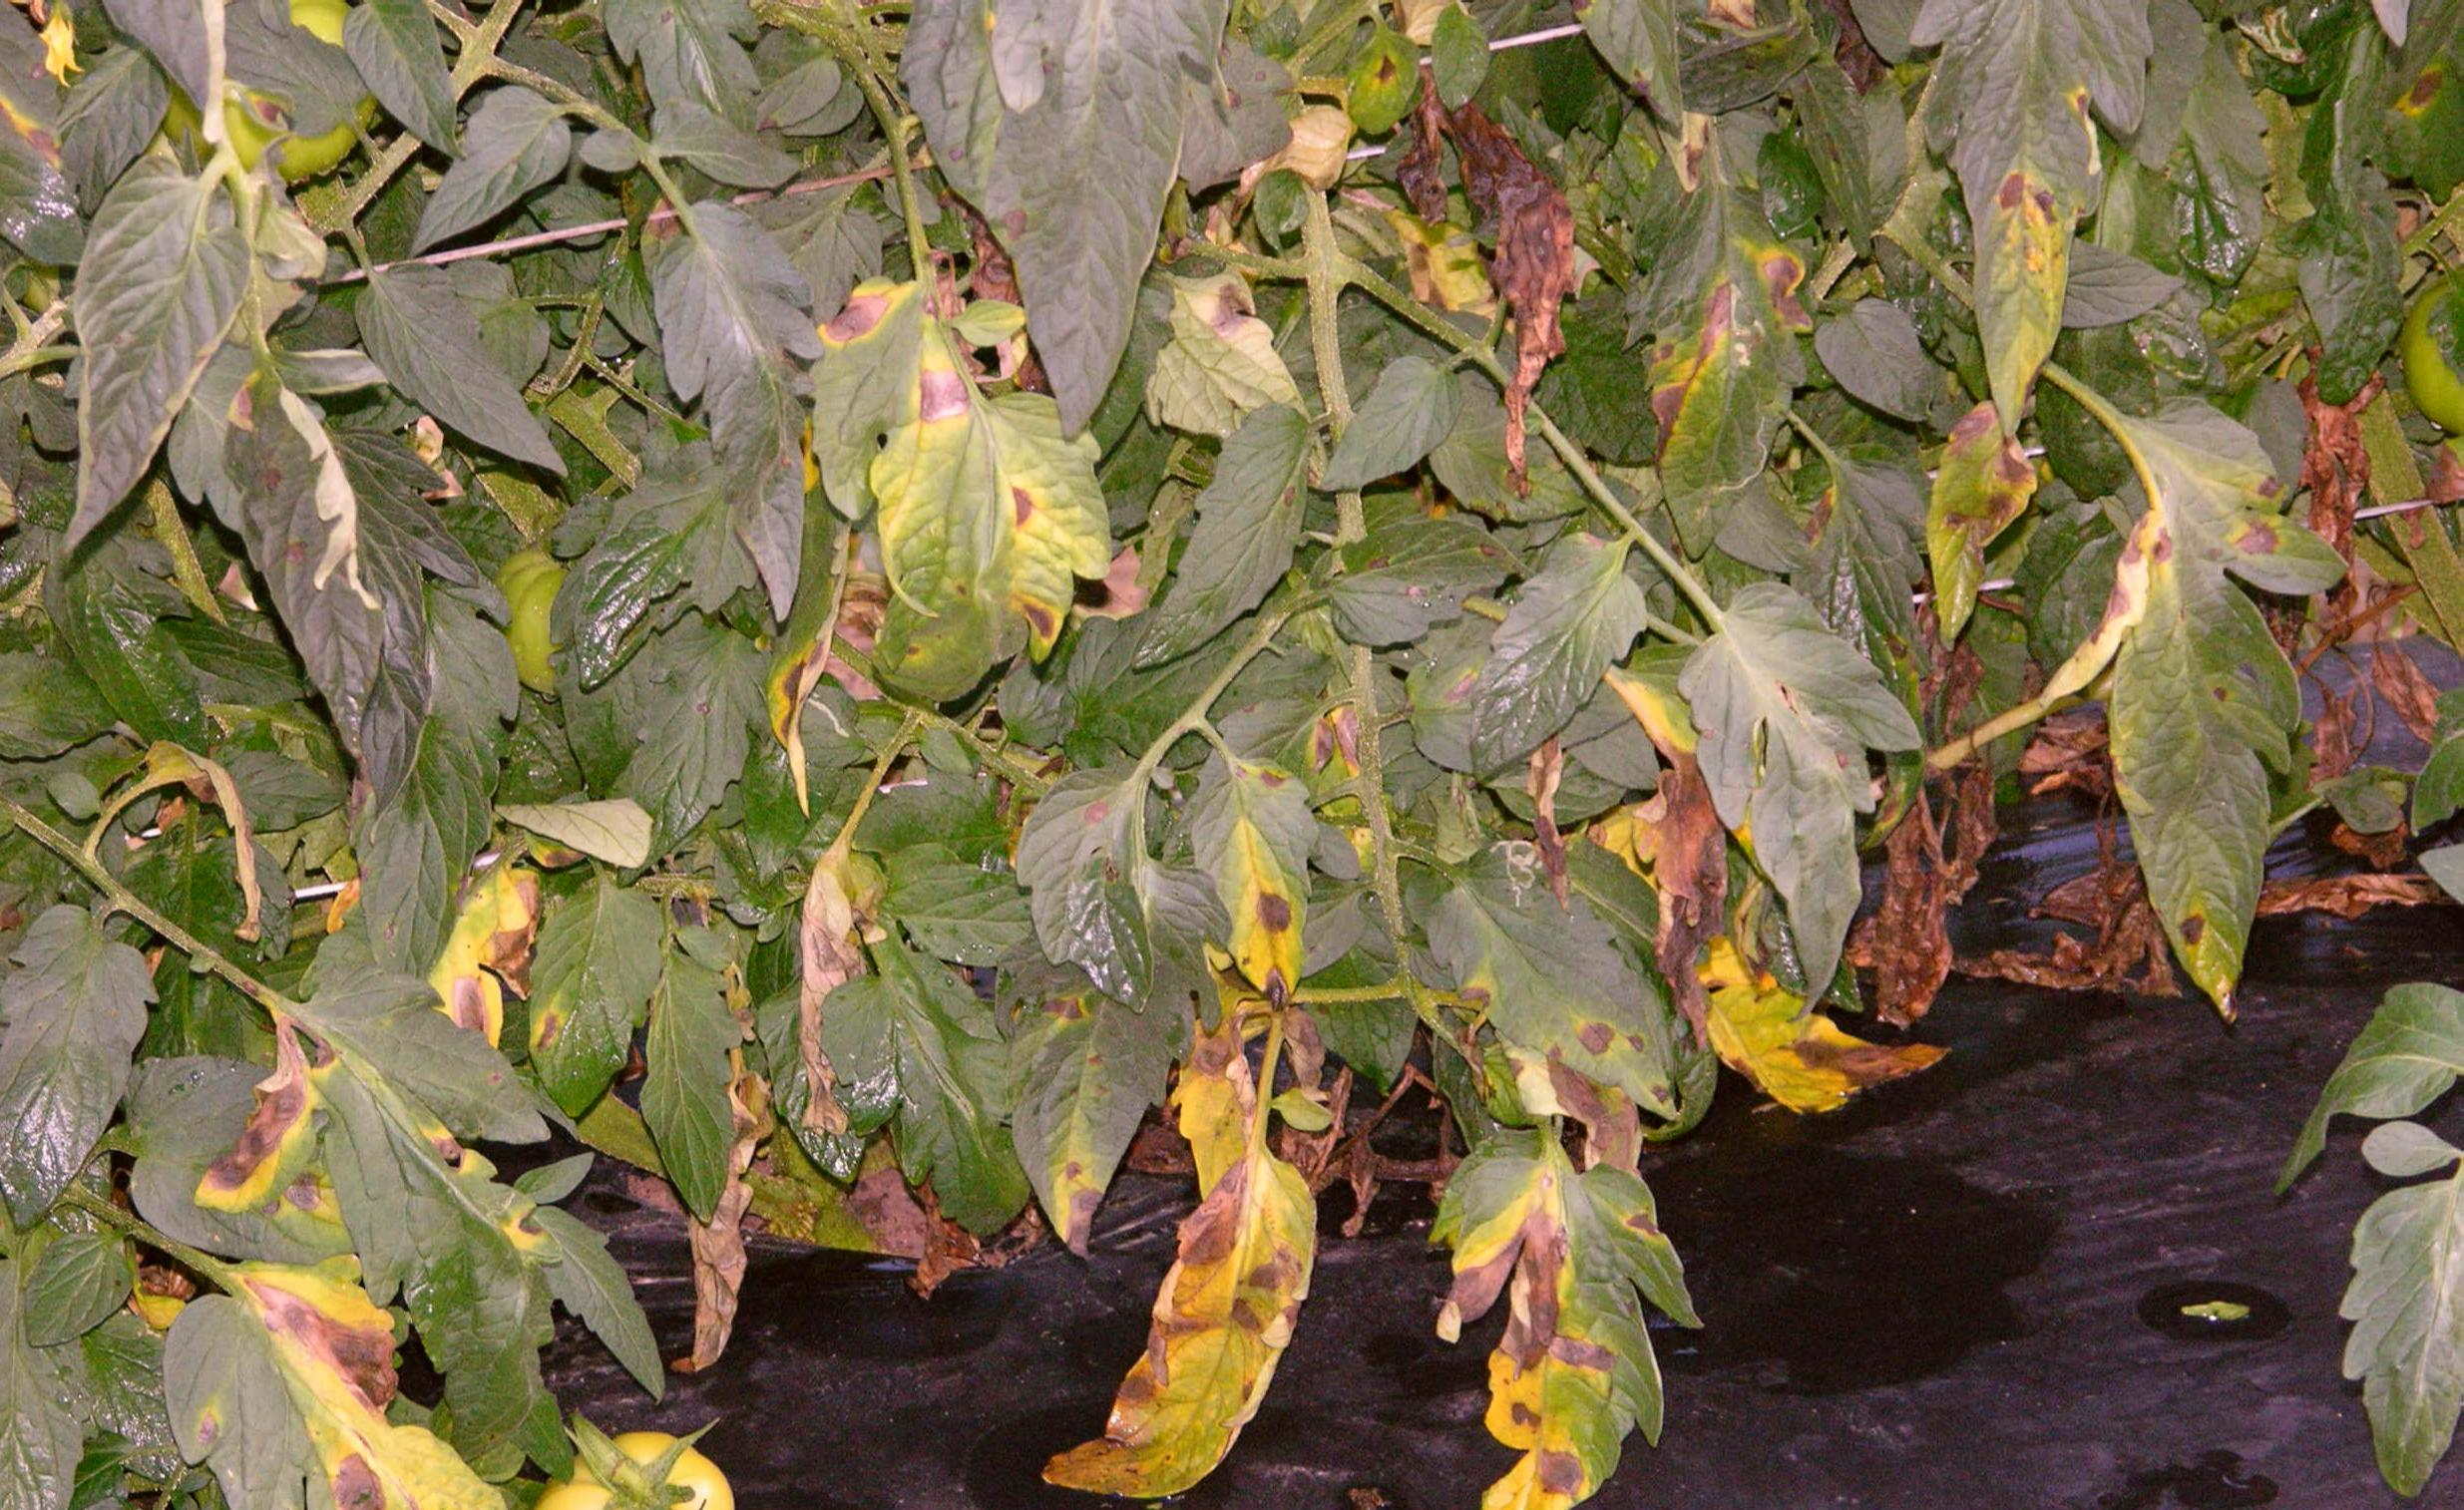Tomato Early blight leaf: (2086, 343, 2334, 1026), (1040, 1095, 1353, 1510), (1873, 0, 2167, 424), (151, 1228, 495, 1510), (1424, 1135, 1667, 1510), (1610, 123, 1802, 558), (854, 407, 1116, 683), (505, 866, 688, 1163), (1184, 723, 1309, 1010), (1910, 398, 2056, 625), (1278, 0, 1514, 118)
Tomato leaf: (69, 157, 236, 537), (1128, 408, 1338, 679), (688, 209, 813, 642), (2313, 1151, 2464, 1494), (1459, 524, 1653, 792), (0, 908, 155, 1235), (380, 273, 563, 472), (392, 100, 583, 266)
